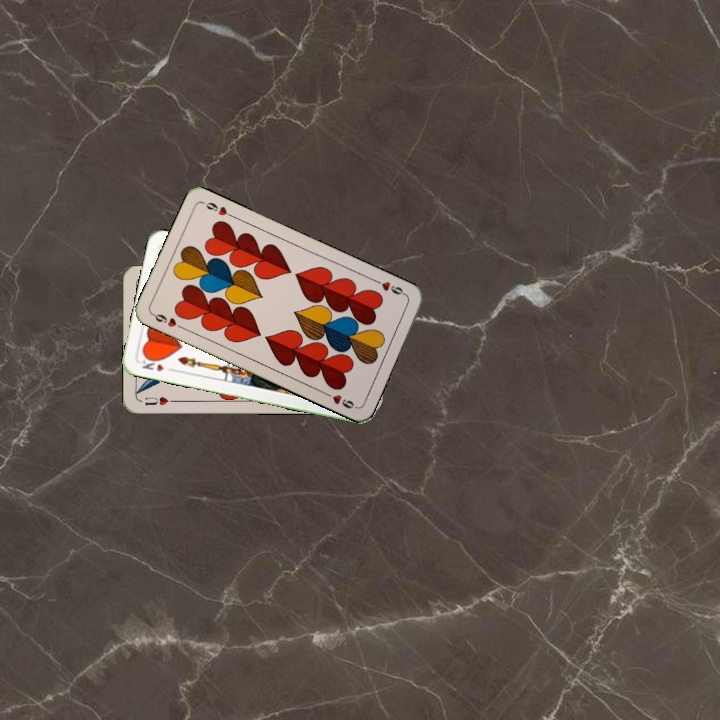H9: (148, 309, 187, 332), (371, 276, 409, 298)
HK: (136, 353, 166, 374)
HU: (141, 393, 178, 408)
